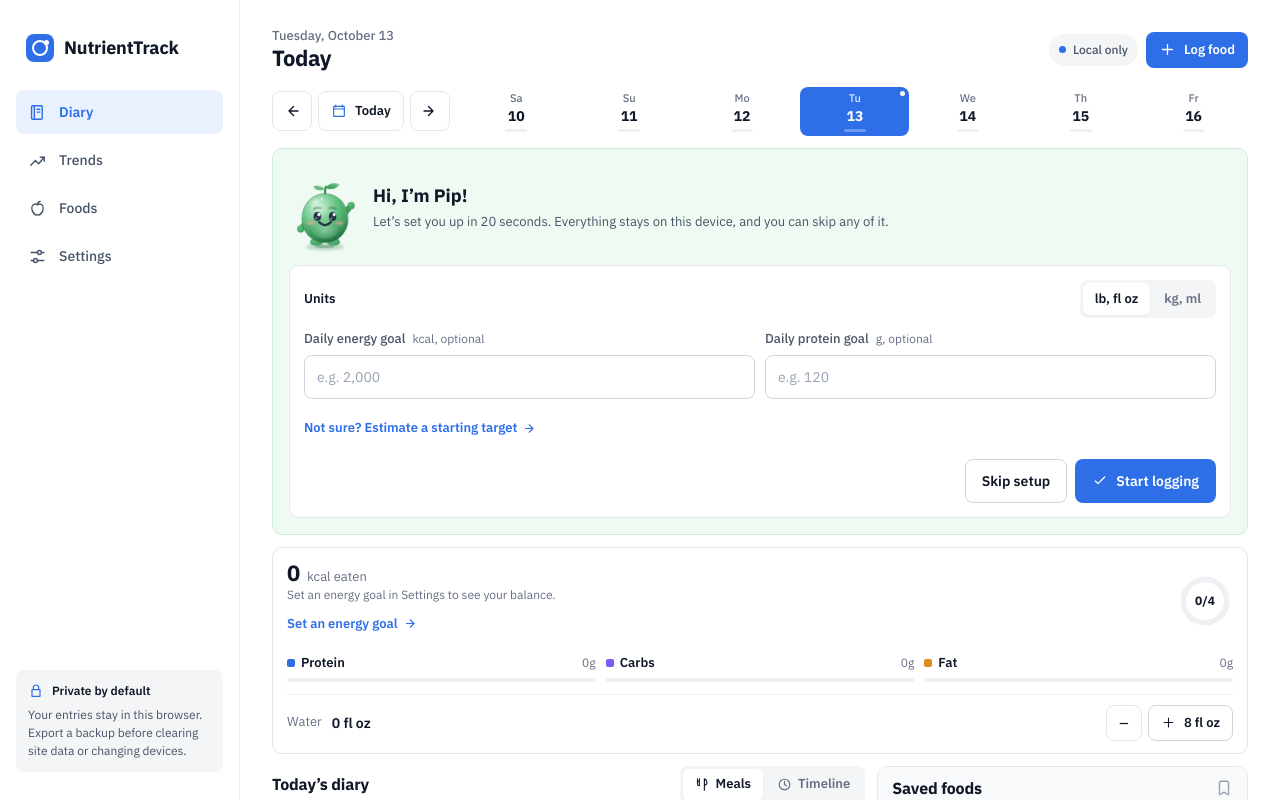
Test: servings on a saved food › steps with the half-serving buttons and rescales
This screenshot has width=1280, height=800.
Click the button "Foods": (120, 208) [16, 186, 223, 230]
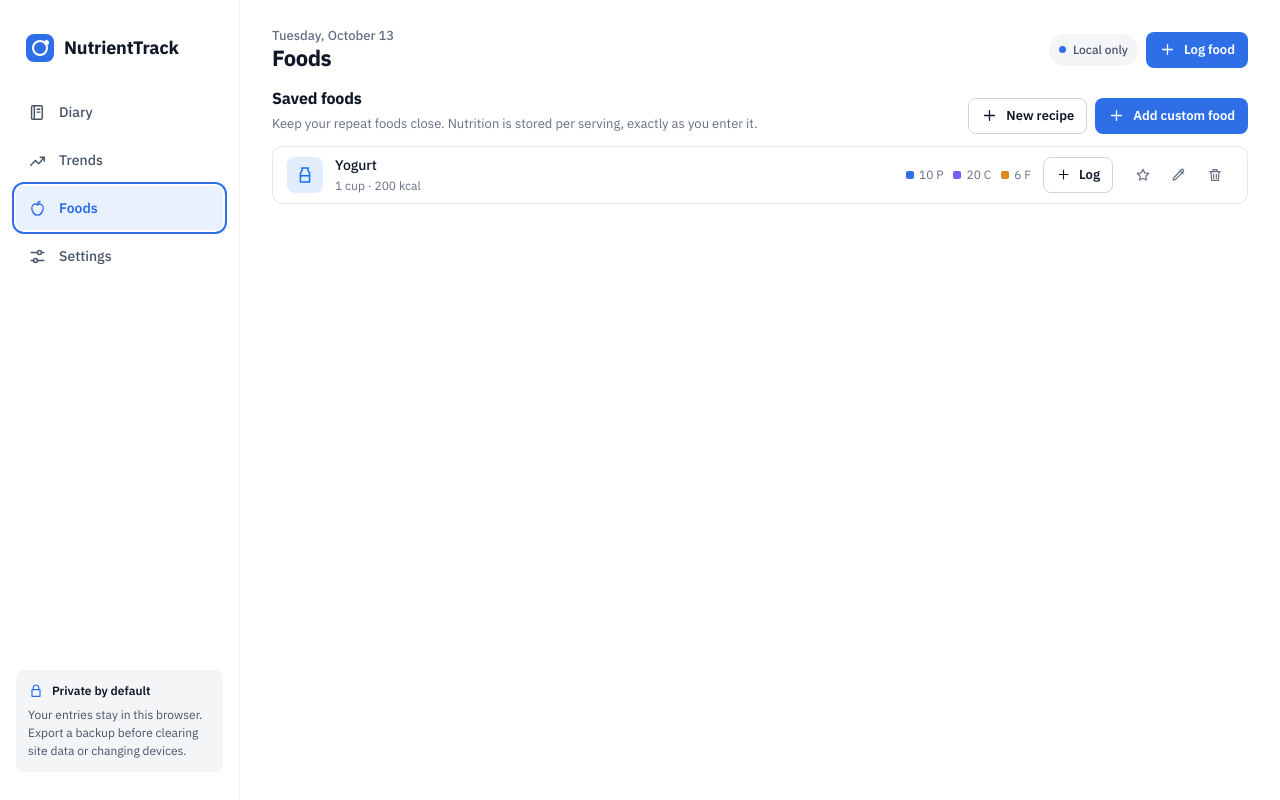
Click the button "Log": (1078, 175) [1043, 157, 1113, 193]
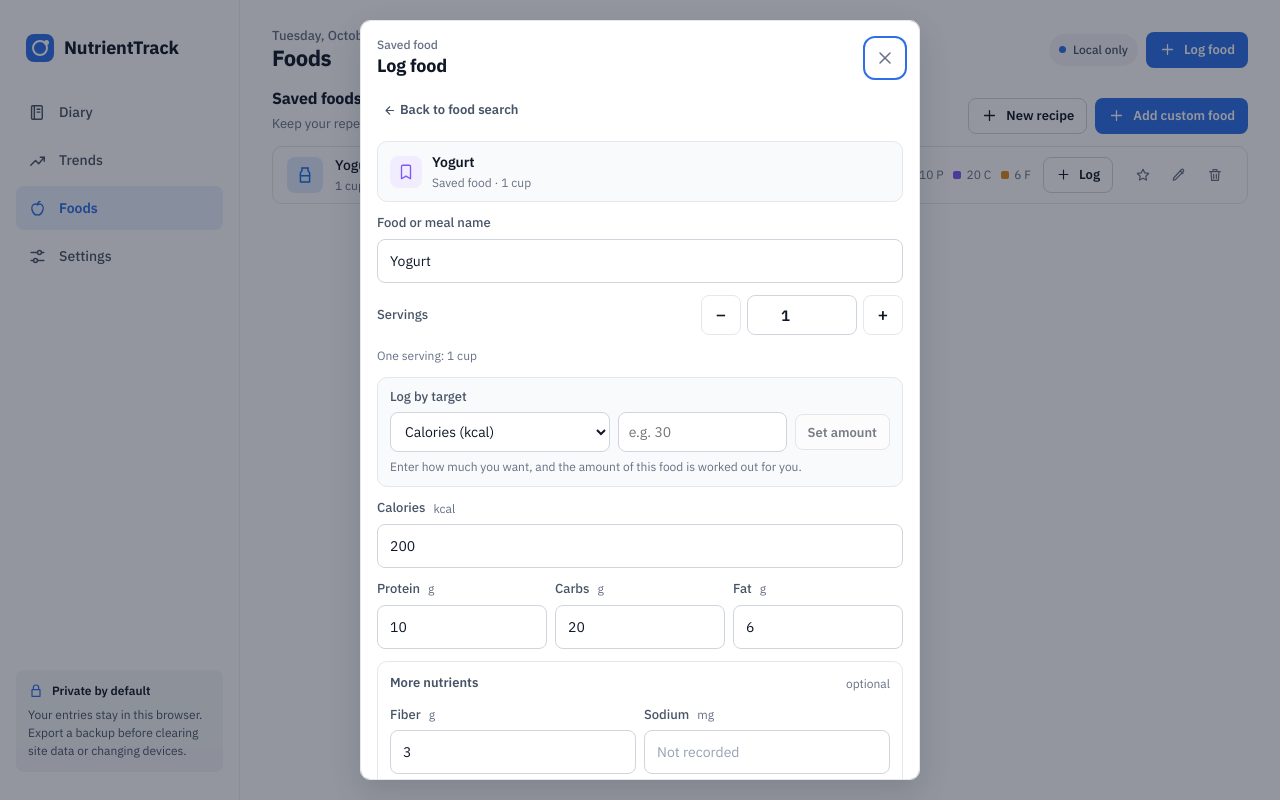
Now the number field labelled "Servings" is shown, box [747, 295, 857, 335]
Click the button named "Half a serving more": (883, 315) [863, 295, 903, 335]
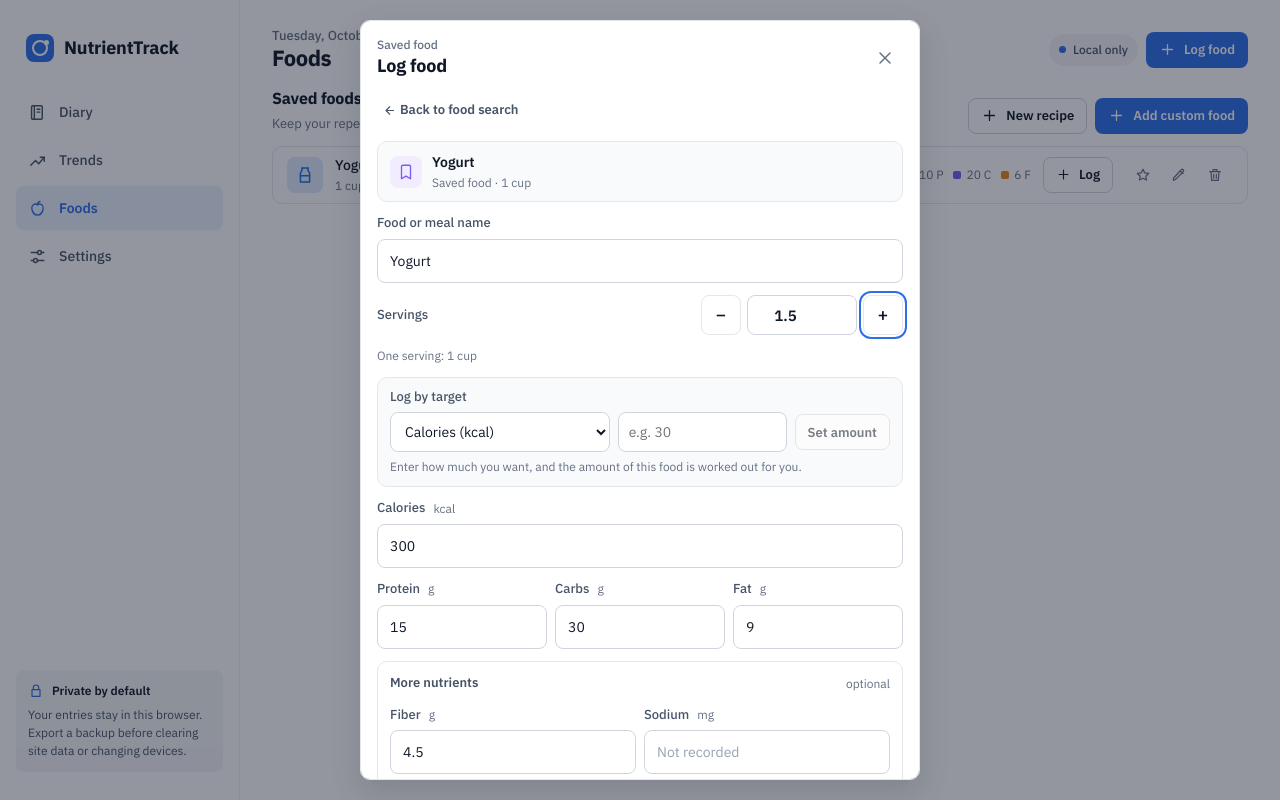
Now the number field labelled "Servings" holds "1.5", box [747, 295, 857, 335]
Now the number field with id "entry-calories" holds "300", box [377, 524, 903, 568]
